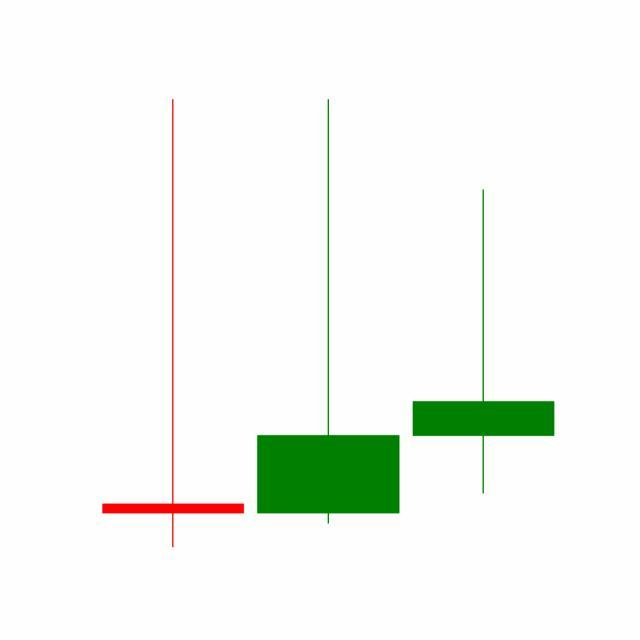Gravestone Doji: (406, 186, 562, 498)
